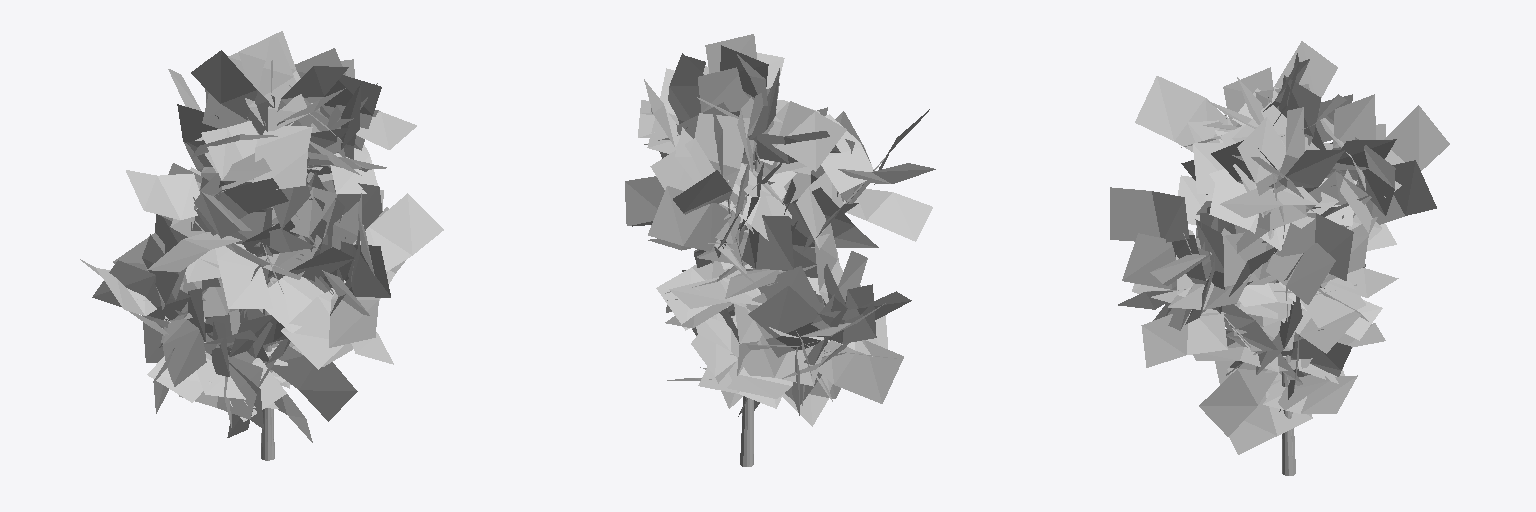
Rendered from tree2.obj.
3 views of the same model, side by side, from view 1: azimuth 30°, elevation 25°; view 2: azimuth 150°, elevation 25°; view 3: azimuth 270°, elevation 25° (orthographic).
Parts seen in each view (by area): view 1: 1; view 2: 1; view 3: 1.
Boxes of the visible parts, <box> form: 1: <box>80,31,443,460</box>; 1: <box>625,34,935,466</box>; 1: <box>1110,41,1449,475</box>.
Size of the model in its own units: 6.5 by 9 by 6.64.